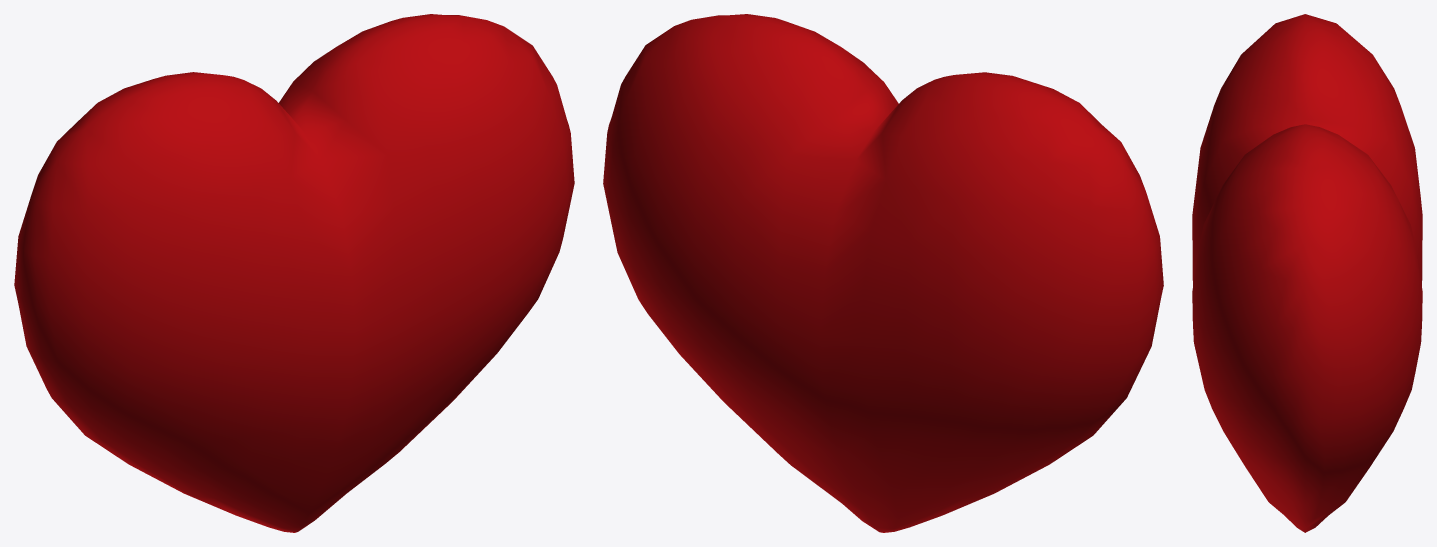
File: heart.gltf
3 views of the same model, side by side, from view 1: azimuth 30°, elevation 25°; view 2: azimuth 150°, elevation 25°; view 3: azimuth 270°, elevation 25° (orthographic). The views are drawn at different scales.
Parts seen in each view (by area): view 1: heart_low__MI_heart; view 2: heart_low__MI_heart; view 3: heart_low__MI_heart.
Part boxes in pixels (<box>): heart_low__MI_heart: <box>14,14,574,532</box>; heart_low__MI_heart: <box>603,14,1163,532</box>; heart_low__MI_heart: <box>1192,14,1422,532</box>.
Size of the model in its own units: 0.0124 by 0.0106 by 0.00494.
1 material, 1 textured.
